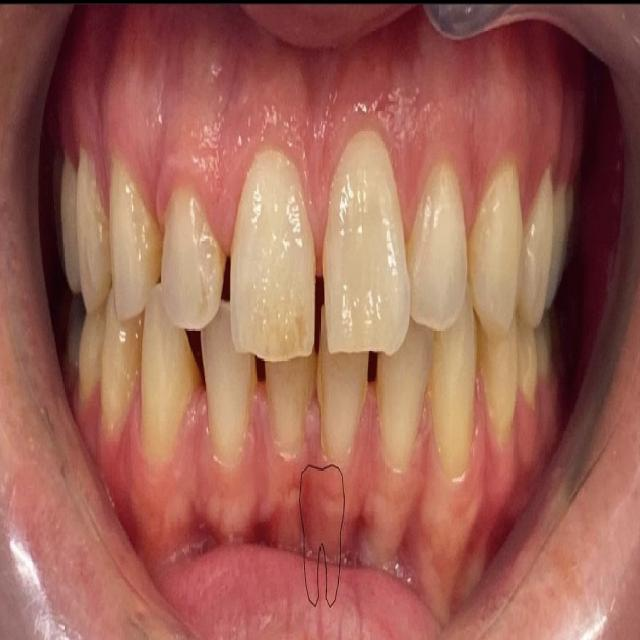tooth: (309, 127, 417, 372), (222, 161, 322, 358), (402, 152, 474, 354), (262, 312, 327, 472), (167, 180, 224, 336), (193, 312, 252, 460), (472, 154, 522, 322), (114, 170, 160, 322), (144, 295, 184, 439), (324, 333, 370, 451), (524, 173, 555, 337), (386, 360, 431, 461), (85, 331, 137, 413), (481, 343, 524, 442), (439, 333, 473, 452), (76, 164, 105, 298)
